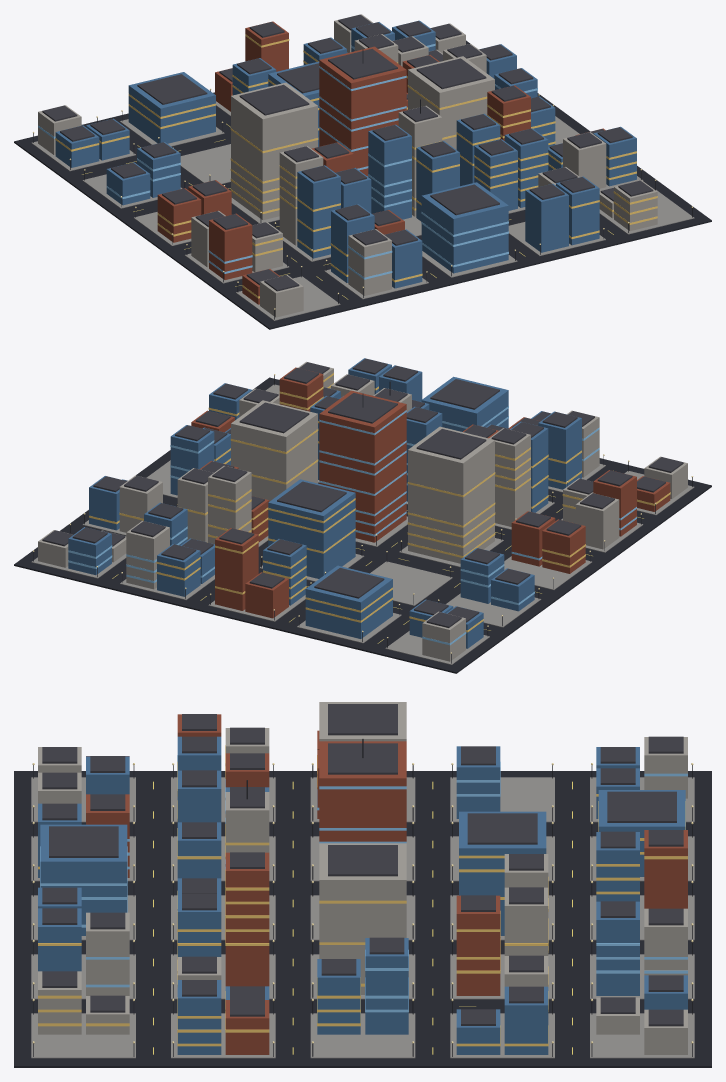
File: FinaleCity.fbx
3 renders of one model, top to bottom at view 1: azimuth 30°, elevation 25°; view 2: azimuth 150°, elevation 25°; view 3: azimuth 270°, elevation 25°, orthographic. The views are drawn at different scales.
Visible parts, largest first — view 1: FinaleCity; view 2: FinaleCity; view 3: FinaleCity.
Part boxes in pixels (x1,y1,x2,y2): FinaleCity: [14, 14, 711, 329]; FinaleCity: [14, 358, 711, 673]; FinaleCity: [14, 702, 711, 1067].
Size of the model in its own units: 32000 by 9174 by 32000.
